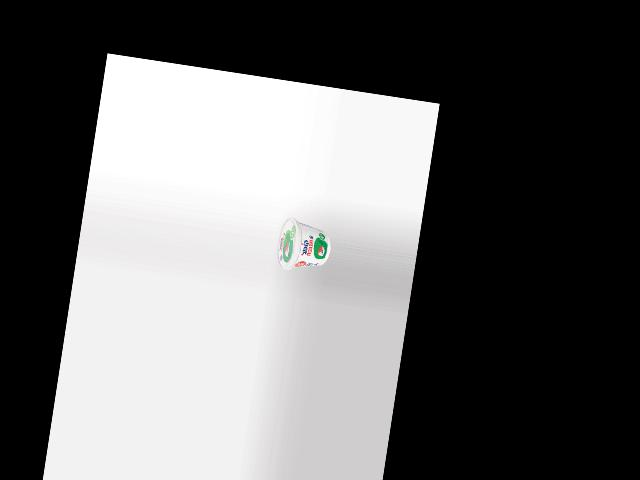cotage: (273, 215, 334, 277)
